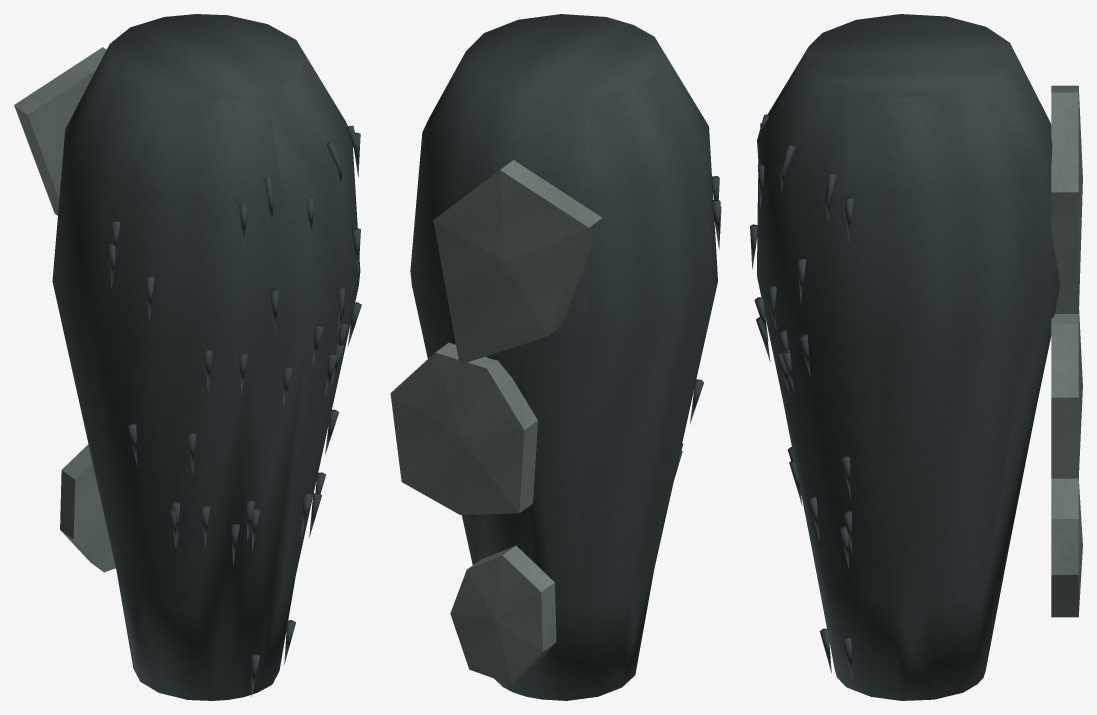
Rendered from shin_r_lod1.glb.
3 renders of one model, left to right at view 1: azimuth 30°, elevation 25°; view 2: azimuth 150°, elevation 25°; view 3: azimuth 270°, elevation 25°, orthographic.
Visible parts, largest first — view 1: dormin_shin_r_LOD1; view 2: dormin_shin_r_LOD1; view 3: dormin_shin_r_LOD1.
Part boxes in pixels (x1,y1,x2,y2): dormin_shin_r_LOD1: [14, 14, 361, 700]; dormin_shin_r_LOD1: [390, 14, 721, 700]; dormin_shin_r_LOD1: [750, 14, 1082, 700].
Size of the model in its own units: 1.64 by 3.59 by 1.76.
Materials: 2 (2 with a texture image).
